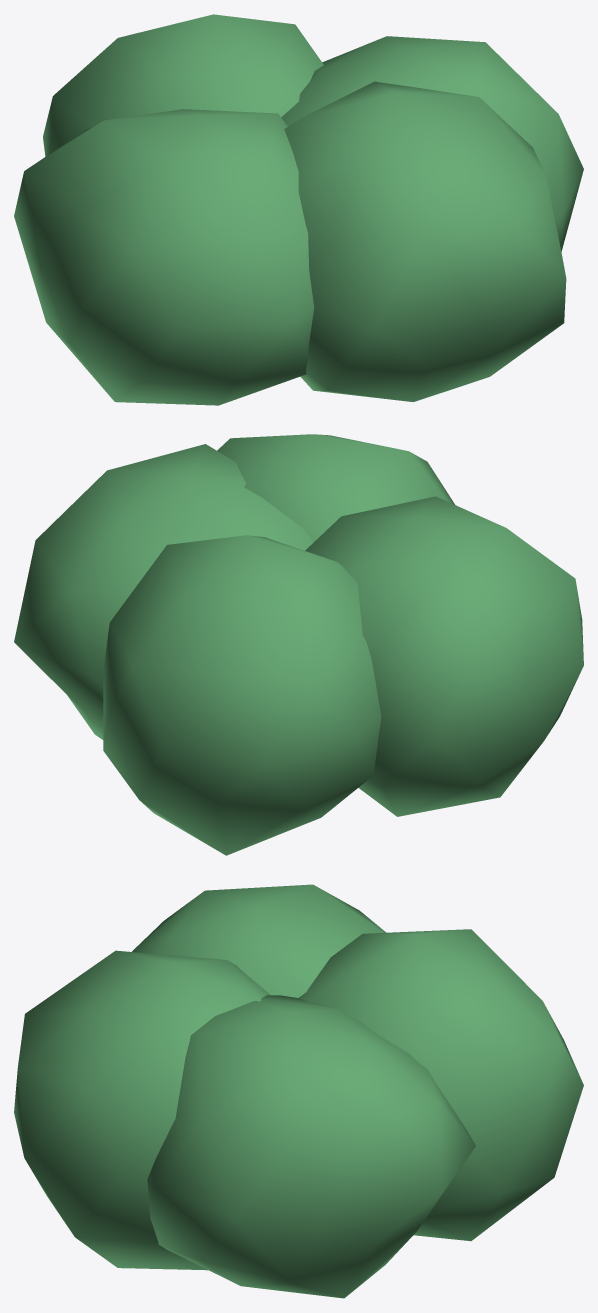
Rendered from Bush_0.fbx.
3 views of the same model, one above another, from view 1: azimuth 30°, elevation 25°; view 2: azimuth 150°, elevation 25°; view 3: azimuth 270°, elevation 25° (orthographic). The views are drawn at different scales.
Visible parts, largest first — view 1: Bush_0; view 2: Bush_0; view 3: Bush_0.
Part boxes in pixels (box(x1,y1,x2,y2)): Bush_0: box(14, 14, 583, 405); Bush_0: box(14, 434, 583, 855); Bush_0: box(14, 884, 583, 1298).
Size of the model in its own units: 2.07 by 1.16 by 2.02.
